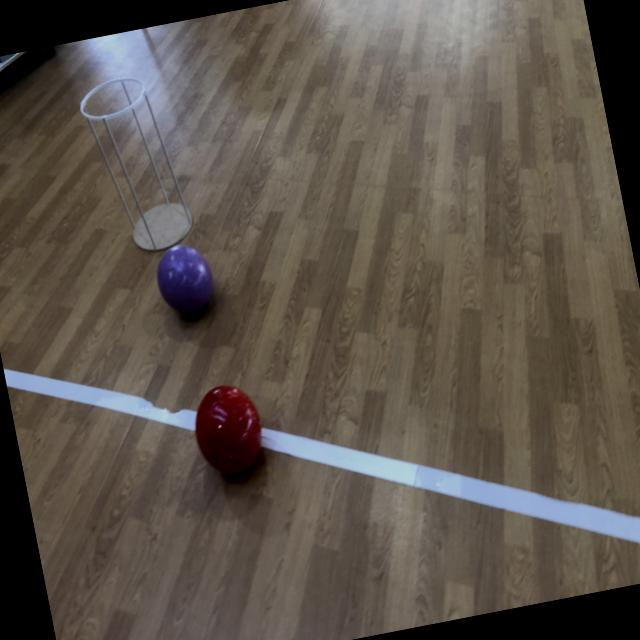purple_ball: (152, 239, 216, 318)
red_ball: (186, 378, 272, 486)
